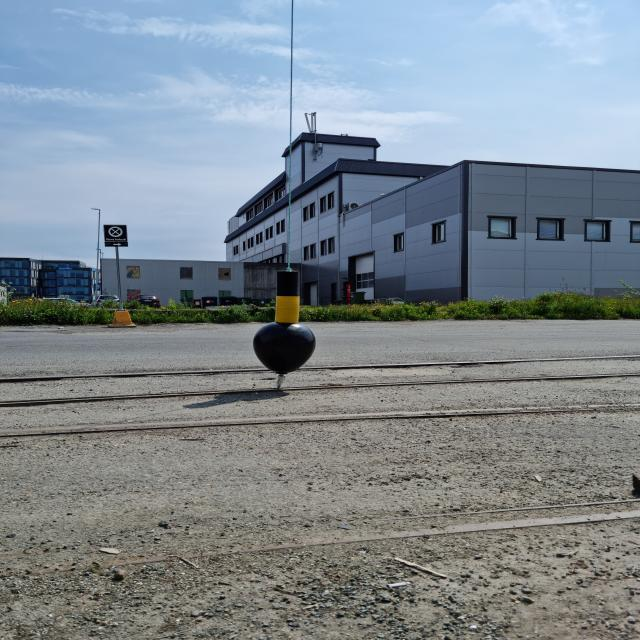east: (253, 270, 316, 374)
